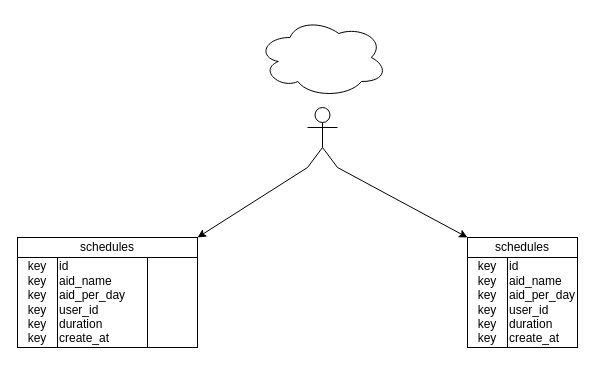
Some shapes in this 595 by 365 pixel diagram are drawn without their labels. Here are the shapes that lost their labels. From the top down, the centre of each, then its label:
the point at 322,57: Два варианта ERD диаграммы
the point at 172,302: uint string int uint int datetime
